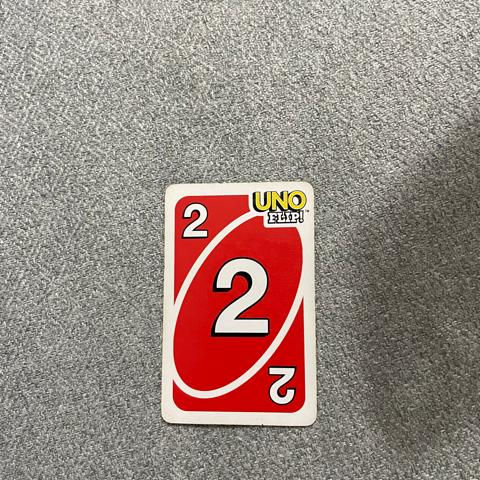lred-2: (172, 192, 223, 249)
